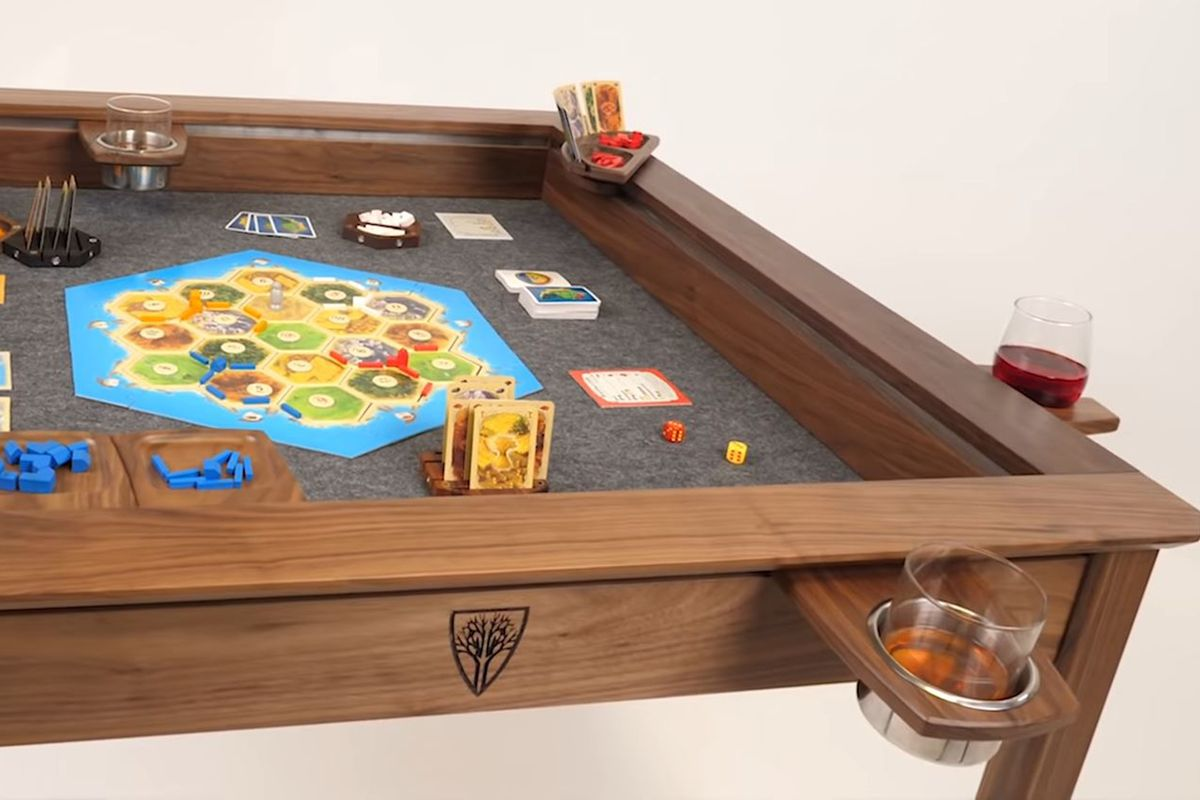meja: (1, 61, 1169, 800)
